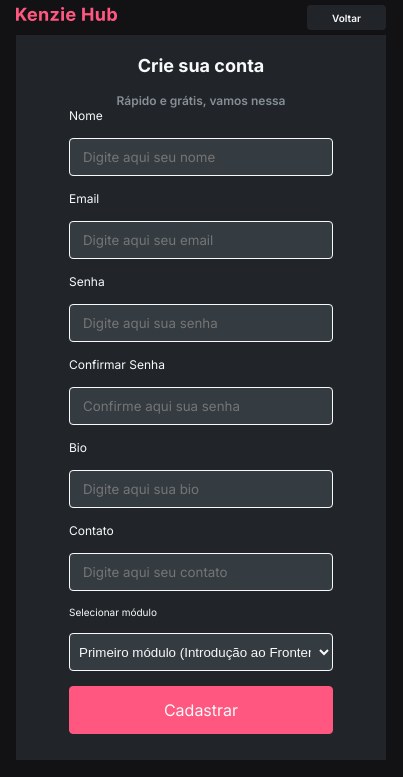
it: SignUp › Tries to register a new user
This screenshot has width=403, height=777.
Type "John Doe" into the field named "name" at (201, 157), box top-left (69, 138), bottom-right (333, 176)
Type "emaildoidodoido@email.com" into the field named "email" at (201, 240), box top-left (69, 221), bottom-right (333, 259)
Type "1234567" into the password field named "password" at (201, 323), box top-left (69, 304), bottom-right (333, 342)
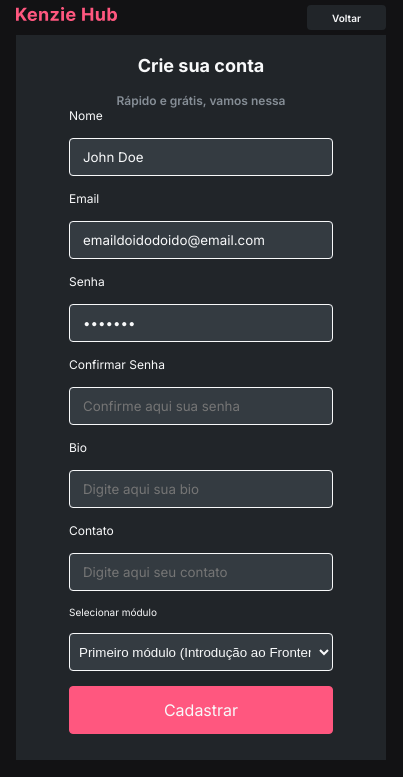
Type "1234567" into the password field named "confirmPassword" at (201, 406), box top-left (69, 387), bottom-right (333, 425)
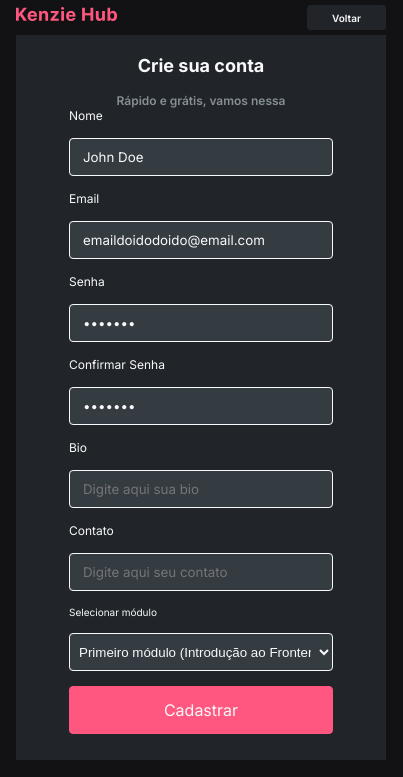
Type "Lorem ipsum dolor emet" into the field named "bio" at (201, 489), box top-left (69, 470), bottom-right (333, 508)
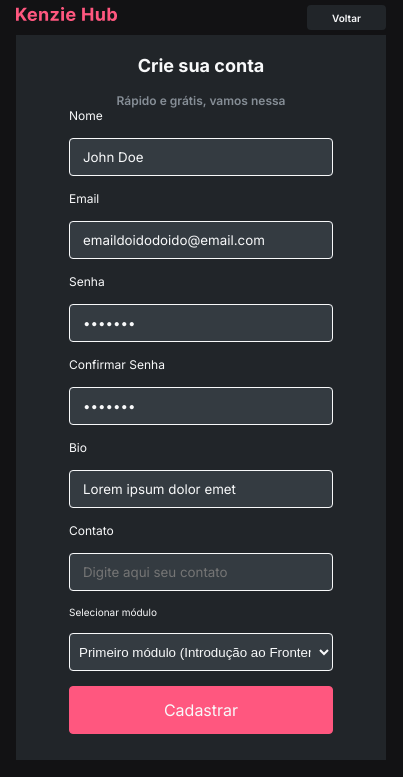
Type "linkedin/in/johndoe" into the field named "contact" at (201, 572), box top-left (69, 553), bottom-right (333, 591)
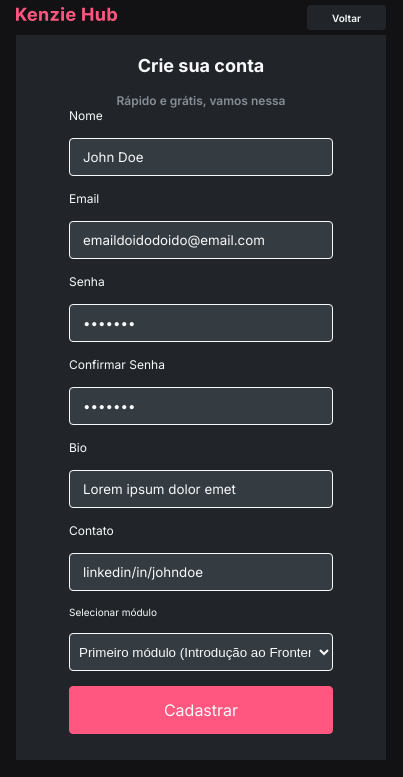
Type "Segundo Módulo (Frontend avançado)" into the dropdown named "course_module" at (201, 652), box top-left (69, 633), bottom-right (333, 671)
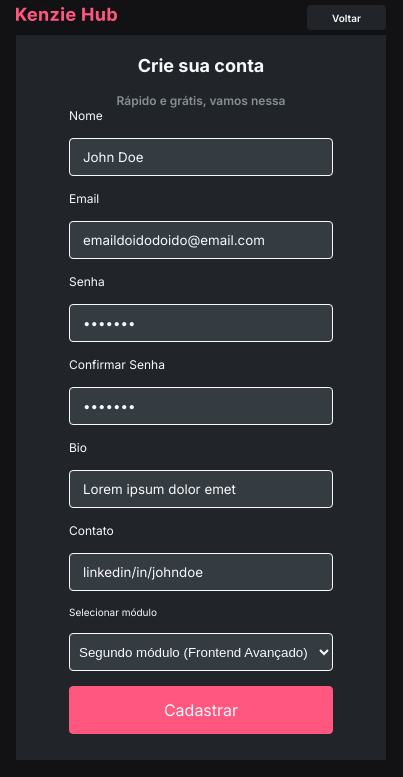
Click the submit button at (201, 710), box top-left (69, 686), bottom-right (333, 734)
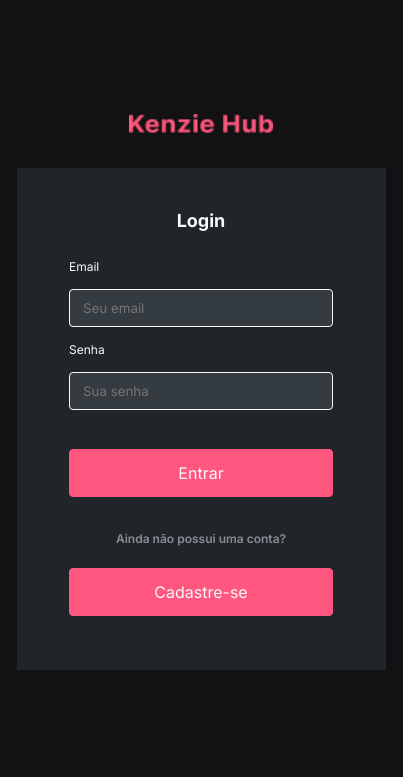
Expected: the button "Entrar" is shown, top-left (69, 449), bottom-right (333, 497)
